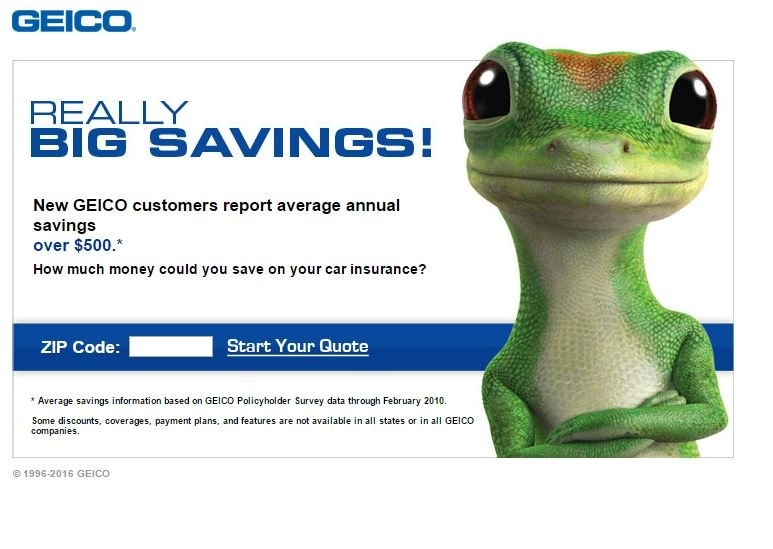geico: (7, 5, 143, 35)
